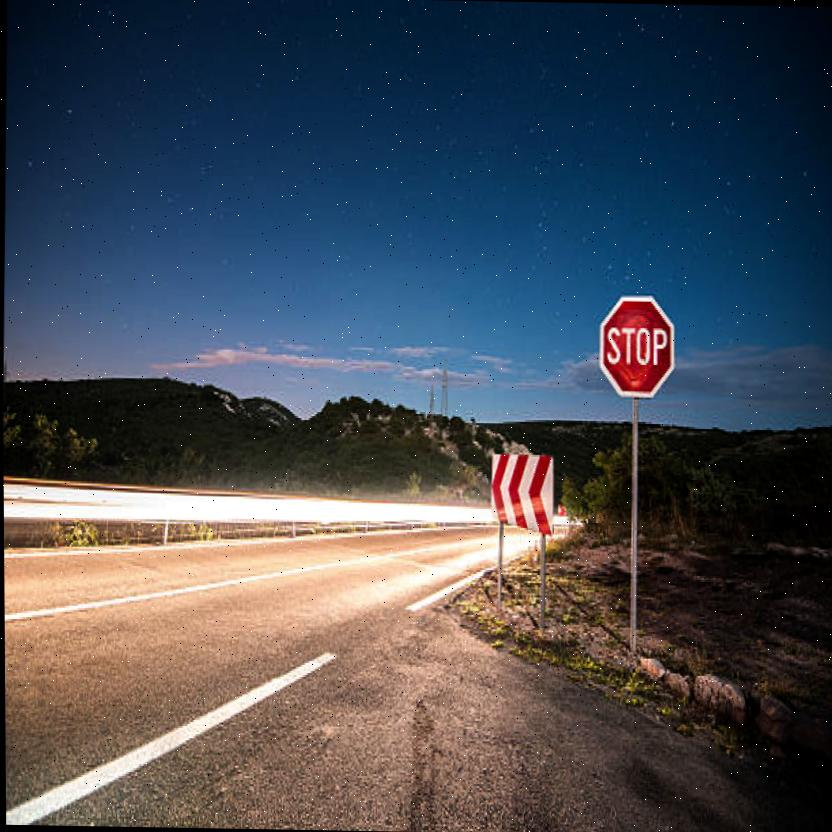Pole: (626, 400, 641, 650)
Sign: (599, 295, 674, 398)
